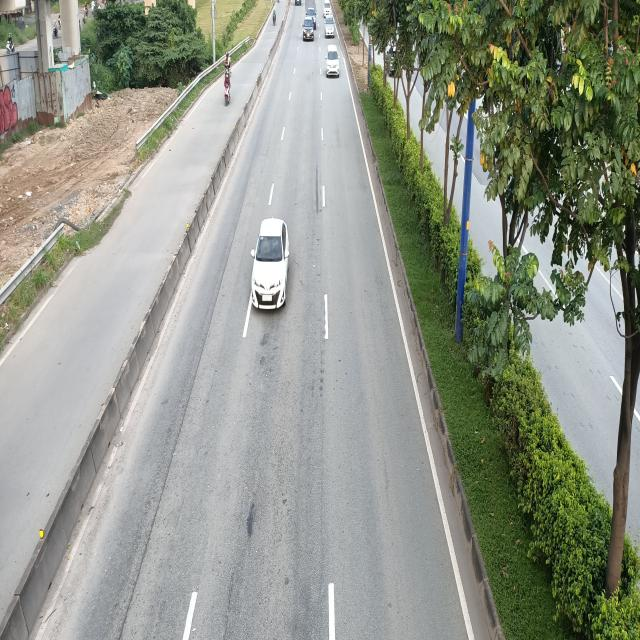car: (252, 220, 291, 314), (325, 46, 340, 78), (302, 18, 315, 42)
